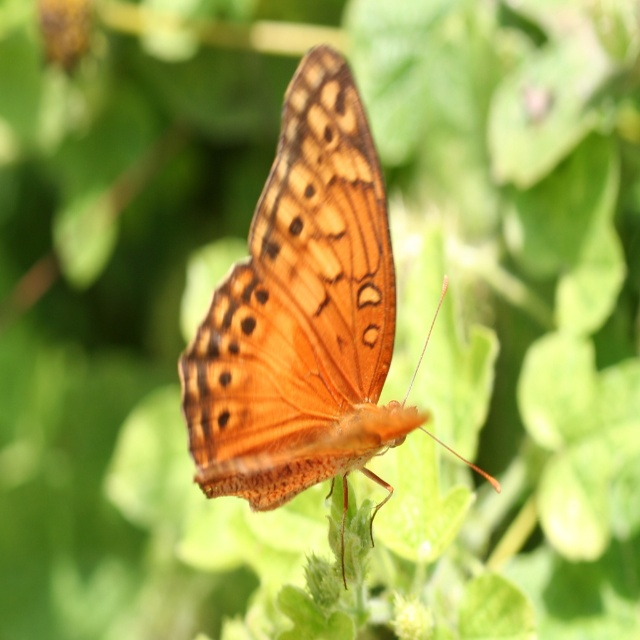Butterfly: (178, 40, 503, 588)
